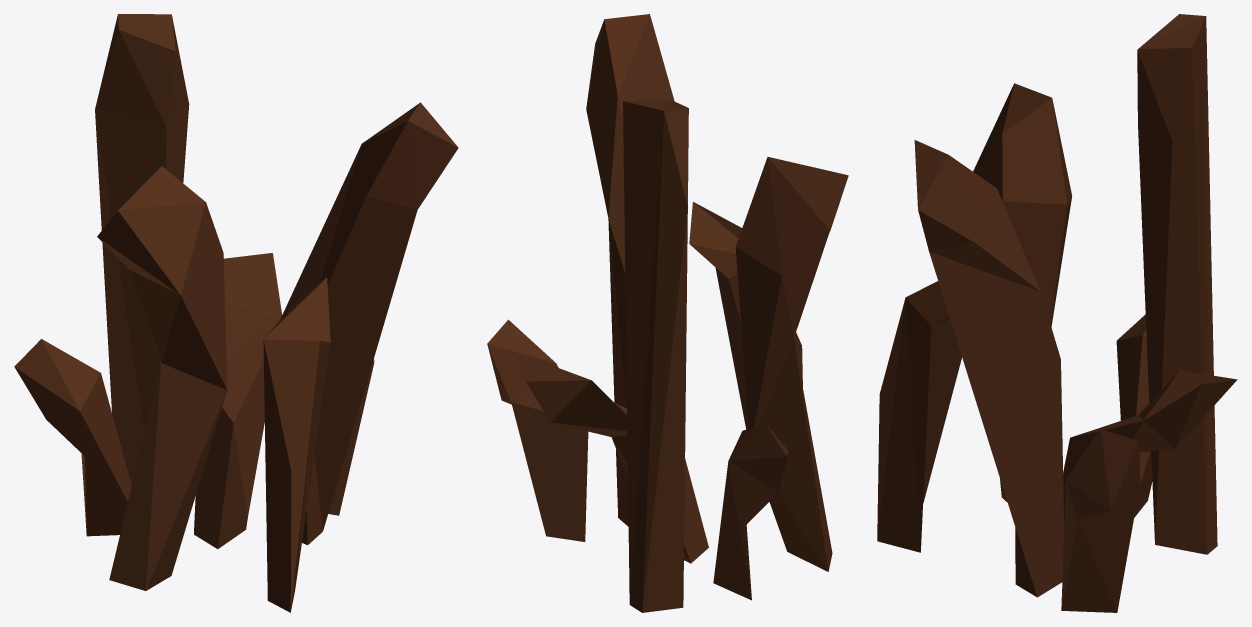
The model's file is ShrubRoots03.fbx.
The picture shows the model from 3 angles, left to right: view 1: azimuth 30°, elevation 25°; view 2: azimuth 150°, elevation 25°; view 3: azimuth 270°, elevation 25°; orthographic projection. The views are drawn at different scales.
Visible parts, largest first — view 1: ShrubRoots03; view 2: ShrubRoots03; view 3: ShrubRoots03.
Part boxes in pixels (<box>): ShrubRoots03: <box>14,14,458,612</box>; ShrubRoots03: <box>487,14,848,612</box>; ShrubRoots03: <box>877,14,1237,612</box>.
Bounding box in the file's own units: 36.29 × 53.92 × 33.77.
